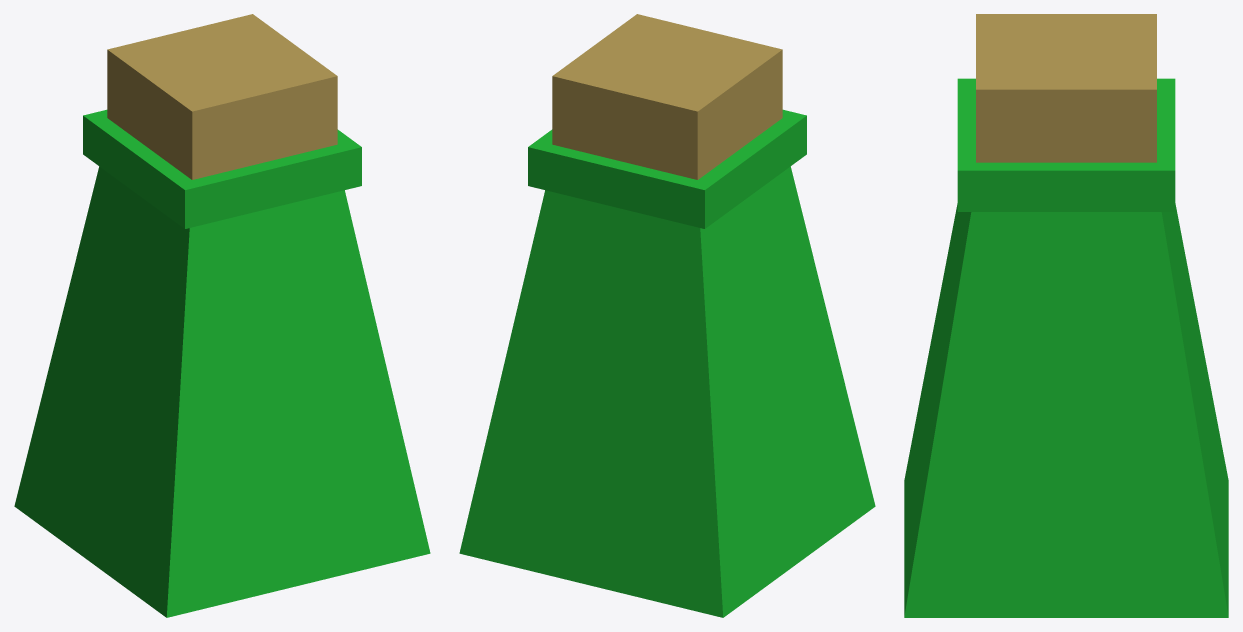
File: MinorPotion_Stamina.fbx
3 views of the same model, side by side, from view 1: azimuth 30°, elevation 25°; view 2: azimuth 150°, elevation 25°; view 3: azimuth 270°, elevation 25° (orthographic). The views are drawn at different scales.
Visible parts, largest first — view 1: MinorPotion_Stamina; view 2: MinorPotion_Stamina; view 3: MinorPotion_Stamina.
Boxes of the visible parts, x1,y1,x2,y2 form: MinorPotion_Stamina: [14, 14, 430, 617]; MinorPotion_Stamina: [459, 14, 875, 617]; MinorPotion_Stamina: [904, 14, 1228, 617].
Size of the model in its own units: 241 by 408 by 241.
